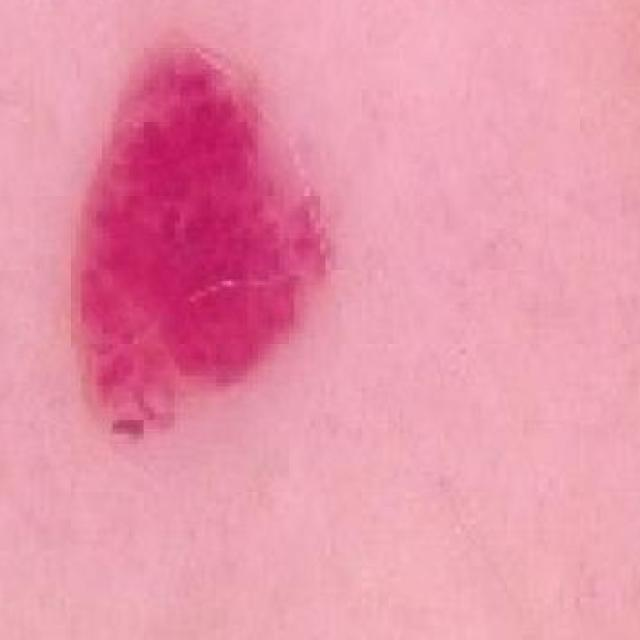VASC: (15, 0, 392, 529)
